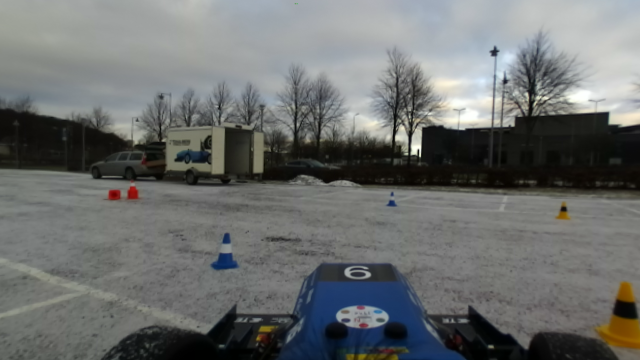blue: (208, 231, 238, 272)
yellow: (595, 281, 640, 350), (554, 201, 572, 220)
